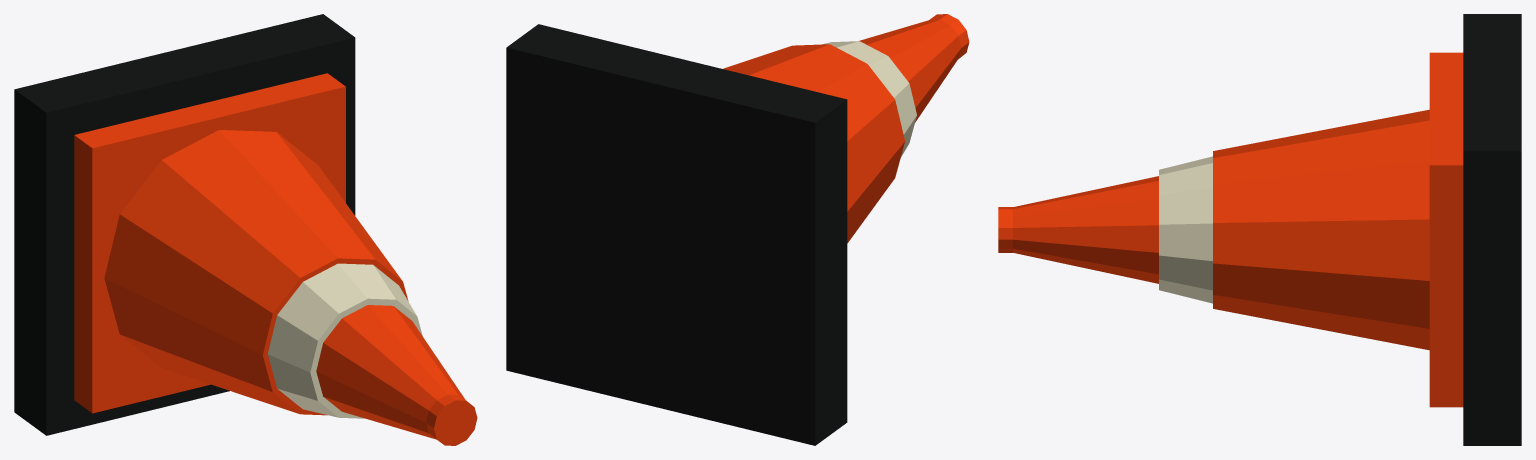
Rendered from traffic_cone.obj.
The picture shows the model from 3 angles, left to right: view 1: azimuth 30°, elevation 25°; view 2: azimuth 150°, elevation 25°; view 3: azimuth 270°, elevation 25°; orthographic projection. The views are drawn at different scales.
Visible parts, largest first — view 1: lower_cone, rubber_base, orange_base, upper_cone, reflective_band, top_cap; view 2: rubber_base, lower_cone, upper_cone, reflective_band, top_cap; view 3: lower_cone, rubber_base, orange_base, upper_cone, reflective_band, top_cap.
Part boxes in pixels (x1,y1,x2,y2): lower_cone: [104, 130, 408, 415]; rubber_base: [14, 14, 355, 435]; orange_base: [74, 73, 345, 413]; upper_cone: [316, 305, 465, 439]; reflective_band: [268, 263, 422, 418]; top_cap: [426, 394, 477, 445]; rubber_base: [506, 24, 847, 445]; lower_cone: [723, 44, 905, 243]; upper_cone: [858, 20, 961, 122]; reflective_band: [821, 41, 916, 157]; top_cap: [929, 14, 969, 59]; lower_cone: [1213, 109, 1429, 350]; rubber_base: [1463, 14, 1521, 445]; orange_base: [1429, 52, 1463, 407]; upper_cone: [1013, 176, 1158, 283]; reflective_band: [1159, 156, 1212, 303]; top_cap: [998, 207, 1012, 252].
Bounding box in the file's own units: 0.78 × 0.78 × 1.25.
